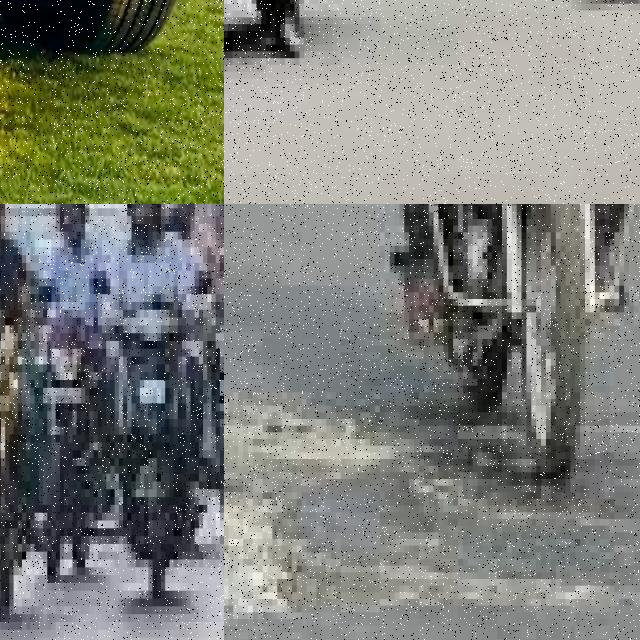bike: (336, 204, 640, 492), (106, 279, 216, 614), (39, 294, 98, 599), (0, 278, 30, 614), (224, 0, 361, 65)
car: (0, 0, 224, 95)
